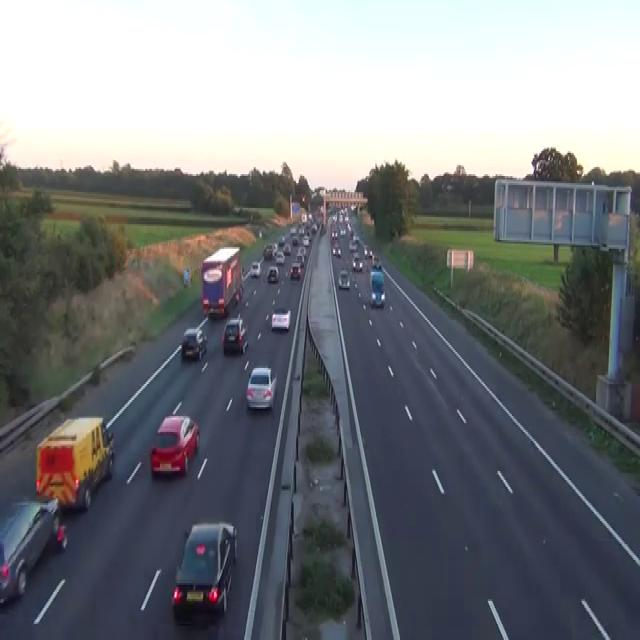Car: (0, 494, 67, 606), (171, 521, 237, 619), (330, 204, 386, 310), (150, 414, 199, 476), (245, 366, 277, 409), (221, 316, 248, 354), (181, 325, 207, 359), (369, 270, 385, 308), (271, 306, 291, 330), (338, 268, 350, 290), (267, 265, 279, 283), (249, 260, 260, 278), (289, 263, 301, 279), (352, 256, 362, 272), (263, 243, 272, 260), (331, 244, 341, 258), (296, 247, 305, 261), (275, 251, 285, 263), (295, 254, 304, 267), (282, 242, 291, 254), (364, 245, 372, 258), (371, 260, 381, 270), (349, 240, 357, 251), (272, 242, 278, 256), (278, 235, 285, 245), (352, 250, 359, 260), (302, 237, 309, 246), (310, 224, 317, 233), (339, 226, 345, 236), (289, 226, 296, 234), (331, 230, 338, 238), (364, 245, 369, 256), (292, 237, 298, 246), (350, 202, 356, 210), (353, 234, 359, 242), (300, 194, 306, 202), (241, 265, 245, 277), (298, 226, 304, 234), (367, 249, 372, 258), (258, 228, 262, 238), (307, 212, 312, 220)
Truck: (35, 414, 114, 512), (200, 246, 243, 318)
